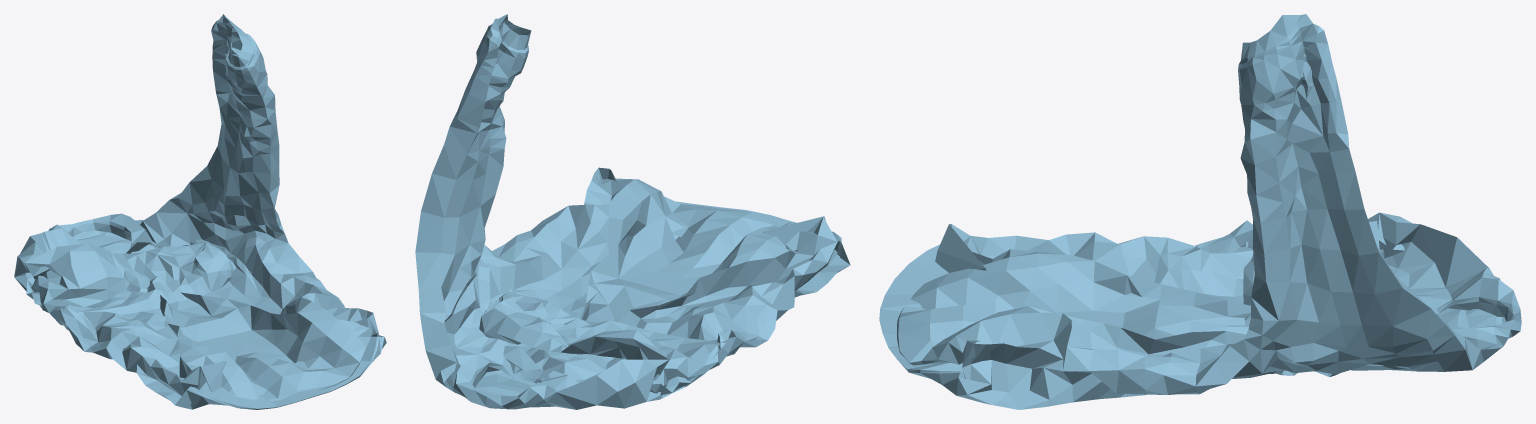
File: frame_12.glb
3 views of the same model, side by side, from view 1: azimuth 30°, elevation 25°; view 2: azimuth 150°, elevation 25°; view 3: azimuth 270°, elevation 25° (orthographic). The views are drawn at different scales.
Visible parts, largest first — view 1: frame_12.obj; view 2: frame_12.obj; view 3: frame_12.obj.
Boxes of the visible parts, x1,y1,x2,y2 form: frame_12.obj: (14,14,386,409); frame_12.obj: (415,14,850,409); frame_12.obj: (879,14,1521,409).
Size of the model in its own units: 0.9429 by 1.06 by 1.59.
